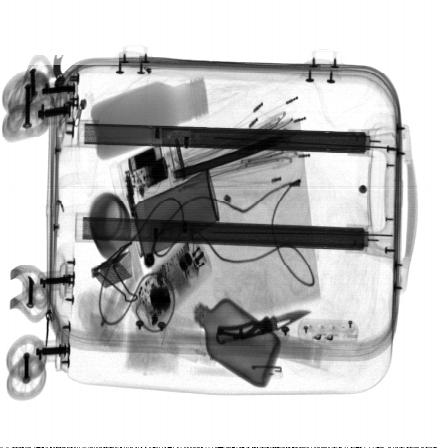Knife: (215, 309, 312, 346)
